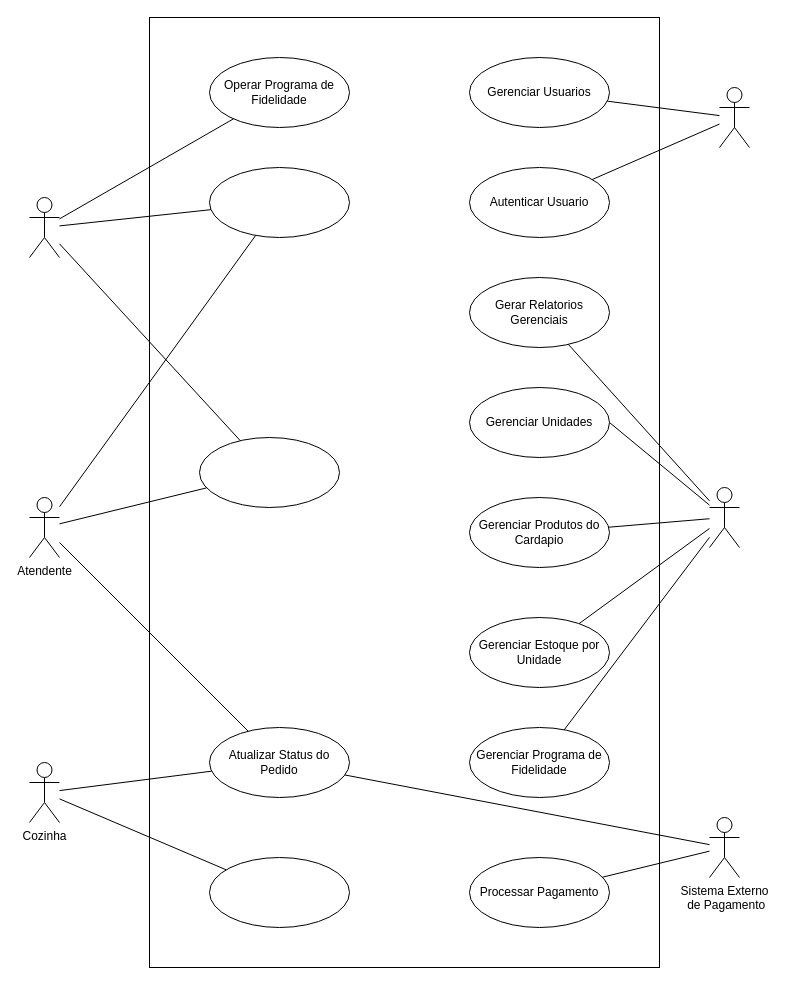
Some shapes in this 786 by 985 pixel diagram are drawn without their labels. The shapes that lost their labels are listed below. From the top down, each one's centre as x and y in pixels, then its label:
the point at 734,117: Usuario
the point at 279,202: Criar Pedido
the point at 44,227: Cliente
the point at 269,472: Consultar Status do Pedido
the point at 724,517: Gerente
the point at 279,892: Consultar Pedidos por Status
